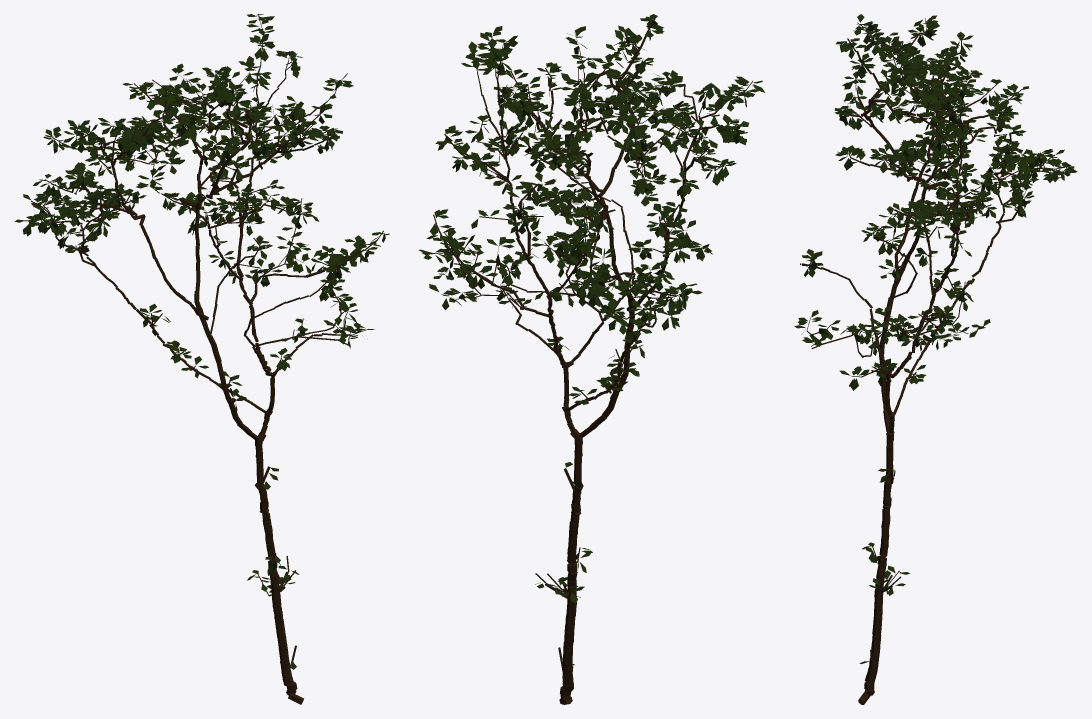
The model's file is 2022_tree_331.obj.
The picture shows the model from 3 angles, left to right: view 1: azimuth 30°, elevation 25°; view 2: azimuth 150°, elevation 25°; view 3: azimuth 270°, elevation 25°; orthographic projection. The views are drawn at different scales.
Parts seen in each view (by area): view 1: Leaves, TrunkAndBranches; view 2: Leaves, TrunkAndBranches; view 3: Leaves, TrunkAndBranches.
Boxes of the visible parts, bbox=[...] form: Leaves: bbox=[14, 14, 389, 669]; TrunkAndBranches: bbox=[31, 15, 383, 704]; Leaves: bbox=[419, 14, 765, 665]; TrunkAndBranches: bbox=[425, 18, 752, 704]; Leaves: bbox=[794, 14, 1077, 663]; TrunkAndBranches: bbox=[800, 18, 1066, 704].
Size of the model in its own units: 7.99 by 16 by 6.4.
